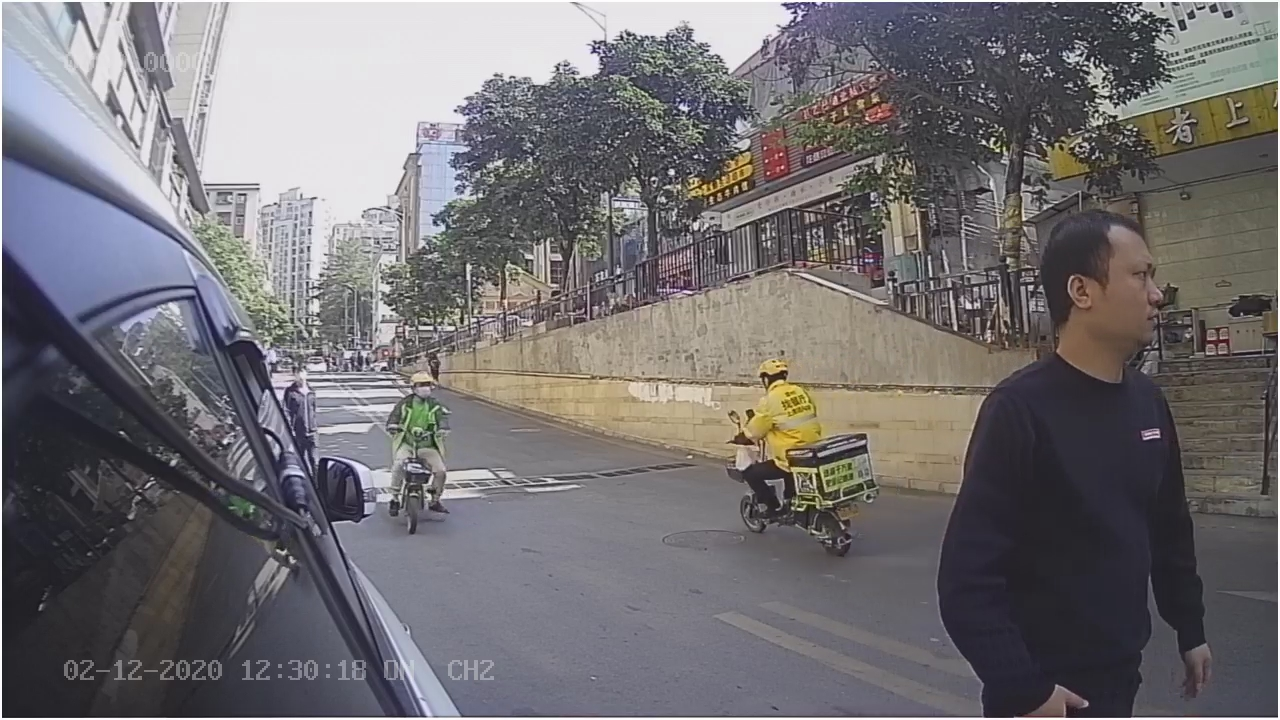person: (952, 206, 1194, 544)
